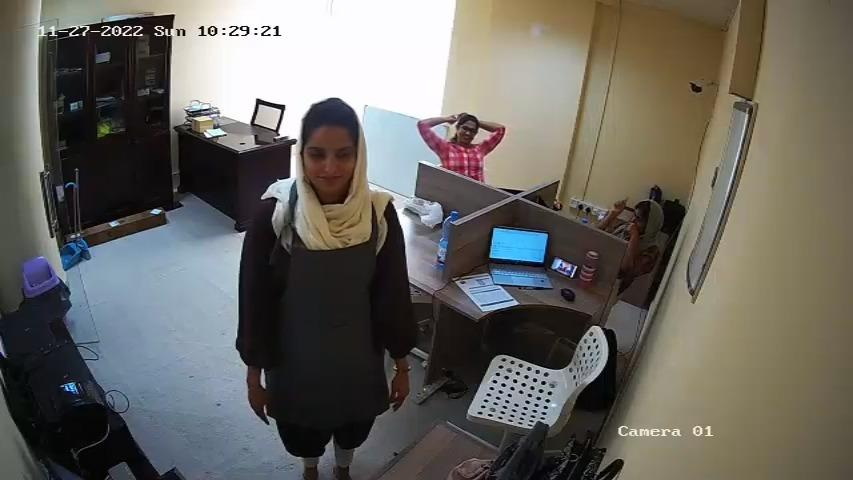apron: (272, 198, 384, 402)
